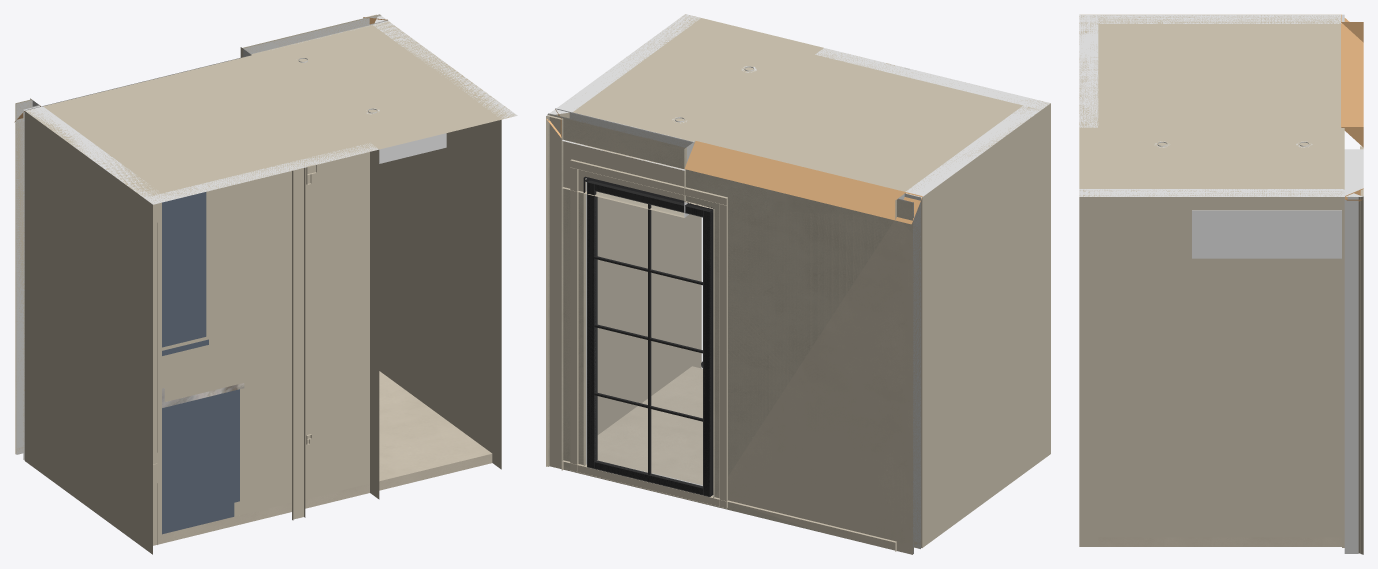
The model's file is laundry-b58f9706a4c1.glb.
3 renders of one model, left to right at view 1: azimuth 30°, elevation 25°; view 2: azimuth 150°, elevation 25°; view 3: azimuth 270°, elevation 25°, orthographic. The views are drawn at different scales.
Parts seen in each view (by area): view 1: laundry-8d8280a2b3ef8b4c, laundry-9d91b47435c6fb33, laundry-4fe5579be934d30a, laundry-7f59123d155b94ce, laundry-3d7dc14daaac73cc, laundry-1b1650778d28d58a, laundry-cdbda69d535efec9, laundry-64efeecf845bccca, laundry-9a6873bb27e0e1d8, laundry-ca9c0b57f88e5741, laundry-6cbc44f63f815149, laundry-bd62734a7bc60eb7; view 2: laundry-bd62734a7bc60eb7, laundry-ca9c0b57f88e5741, laundry-4fe5579be934d30a, laundry-9d91b47435c6fb33, laundry-09f90213aa0a4493, laundry-7f59123d155b94ce, laundry-1b1650778d28d58a, laundry-9373e00609a5f856, laundry-341dc20a3e1bcc67, laundry-8d8280a2b3ef8b4c, laundry-9a6873bb27e0e1d8, laundry-82fe871d7bda5383 (+2 smaller); view 3: laundry-7f59123d155b94ce, laundry-9d91b47435c6fb33, laundry-6cbc44f63f815149, laundry-9a6873bb27e0e1d8, laundry-341dc20a3e1bcc67, laundry-1b1650778d28d58a, laundry-8d8280a2b3ef8b4c, laundry-4fe5579be934d30a, laundry-82fe871d7bda5383, laundry-bd62734a7bc60eb7.
Part boxes in pixels (bbox=[...]): laundry-8d8280a2b3ef8b4c: bbox=[143, 143, 379, 554]; laundry-9d91b47435c6fb33: bbox=[25, 21, 515, 203]; laundry-4fe5579be934d30a: bbox=[24, 106, 158, 547]; laundry-7f59123d155b94ce: bbox=[373, 14, 517, 469]; laundry-3d7dc14daaac73cc: bbox=[162, 389, 239, 534]; laundry-1b1650778d28d58a: bbox=[160, 371, 492, 543]; laundry-cdbda69d535efec9: bbox=[162, 192, 208, 355]; laundry-64efeecf845bccca: bbox=[292, 167, 305, 520]; laundry-9a6873bb27e0e1d8: bbox=[16, 15, 388, 459]; laundry-ca9c0b57f88e5741: bbox=[15, 14, 380, 453]; laundry-6cbc44f63f815149: bbox=[379, 133, 446, 163]; laundry-bd62734a7bc60eb7: bbox=[15, 14, 380, 454]; laundry-bd62734a7bc60eb7: bbox=[547, 114, 912, 554]; laundry-ca9c0b57f88e5741: bbox=[549, 114, 913, 554]; laundry-4fe5579be934d30a: bbox=[904, 106, 1041, 547]; laundry-9d91b47435c6fb33: bbox=[555, 14, 1050, 191]; laundry-09f90213aa0a4493: bbox=[583, 176, 714, 497]; laundry-7f59123d155b94ce: bbox=[546, 14, 701, 466]; laundry-1b1650778d28d58a: bbox=[562, 366, 896, 551]; laundry-9373e00609a5f856: bbox=[570, 159, 727, 508]; laundry-341dc20a3e1bcc67: bbox=[684, 141, 906, 220]; laundry-8d8280a2b3ef8b4c: bbox=[815, 48, 1050, 460]; laundry-9a6873bb27e0e1d8: bbox=[548, 112, 920, 553]; laundry-82fe871d7bda5383: bbox=[570, 113, 922, 548]; laundry-7f59123d155b94ce: bbox=[1079, 189, 1363, 554]; laundry-9d91b47435c6fb33: bbox=[1079, 14, 1344, 196]; laundry-6cbc44f63f815149: bbox=[1192, 149, 1363, 258]; laundry-9a6873bb27e0e1d8: bbox=[1344, 196, 1358, 553]; laundry-341dc20a3e1bcc67: bbox=[1341, 22, 1363, 147]; laundry-1b1650778d28d58a: bbox=[1098, 537, 1341, 546]; laundry-8d8280a2b3ef8b4c: bbox=[1079, 15, 1098, 127]; laundry-4fe5579be934d30a: bbox=[1098, 15, 1341, 23]; laundry-82fe871d7bda5383: bbox=[1342, 14, 1344, 547]; laundry-bd62734a7bc60eb7: bbox=[1360, 189, 1363, 553].
Size of the model in its own units: 2.72 by 2.5 by 1.8.
Materials: 28 (3 with a texture image).
